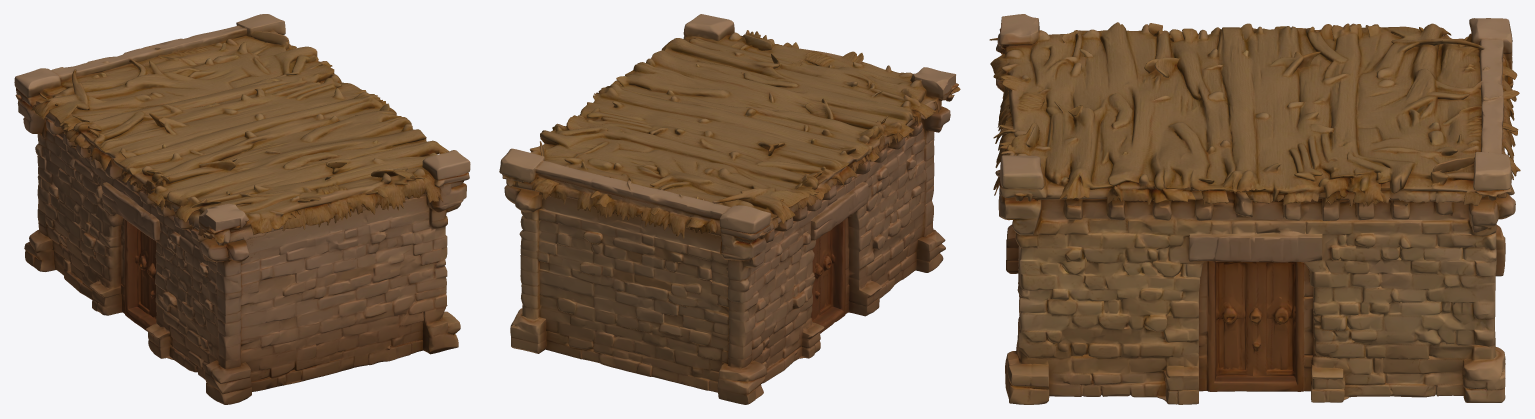
Rendered from مبنى.glb.
3 views of the same model, side by side, from view 1: azimuth 30°, elevation 25°; view 2: azimuth 150°, elevation 25°; view 3: azimuth 270°, elevation 25° (orthographic). The views are drawn at different scales.
Parts seen in each view (by area): view 1: tripo_node_302f9b84-61b9-47b6-8236-316f48fa0c61; view 2: tripo_node_302f9b84-61b9-47b6-8236-316f48fa0c61; view 3: tripo_node_302f9b84-61b9-47b6-8236-316f48fa0c61.
Boxes of the visible parts, box(x1,y1,x2,y2) form: tripo_node_302f9b84-61b9-47b6-8236-316f48fa0c61: box(14, 14, 470, 404); tripo_node_302f9b84-61b9-47b6-8236-316f48fa0c61: box(499, 14, 960, 404); tripo_node_302f9b84-61b9-47b6-8236-316f48fa0c61: box(989, 14, 1520, 404).
Size of the model in its own units: 0.9021 by 0.6 by 1.21.
1 material, 1 textured.
